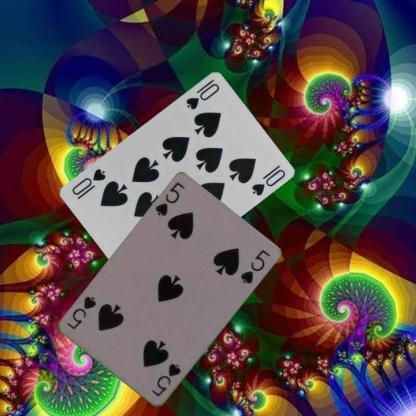10s: (183, 76, 221, 111)
5s: (153, 180, 186, 218), (149, 361, 182, 398)
